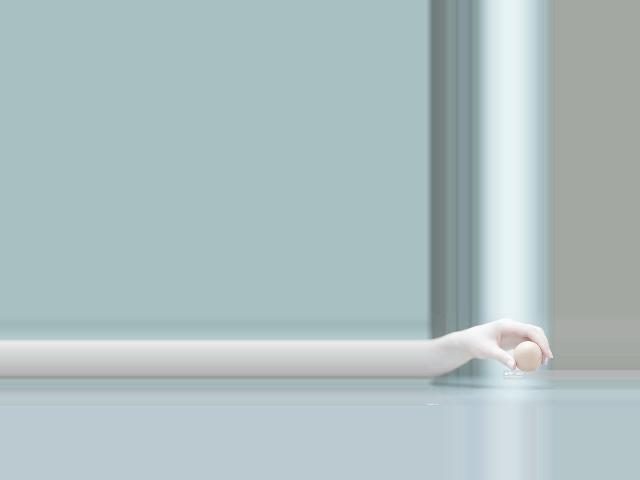egg: (512, 341, 542, 372)
